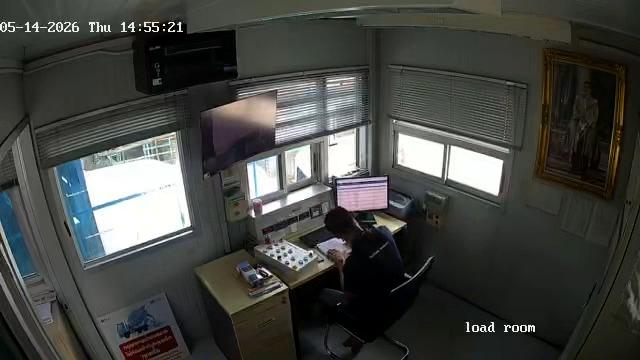Head: (326, 206, 357, 240)
People: (324, 204, 404, 292)
